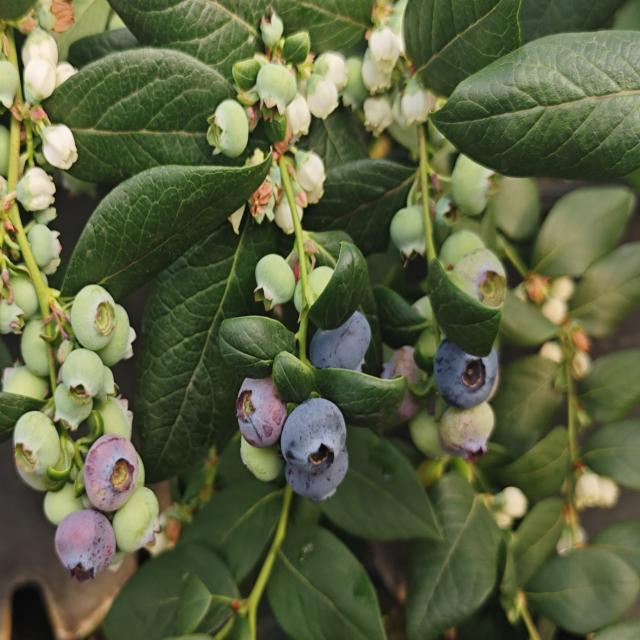ripe: (282, 392, 356, 504), (431, 326, 507, 415), (304, 302, 374, 377)
